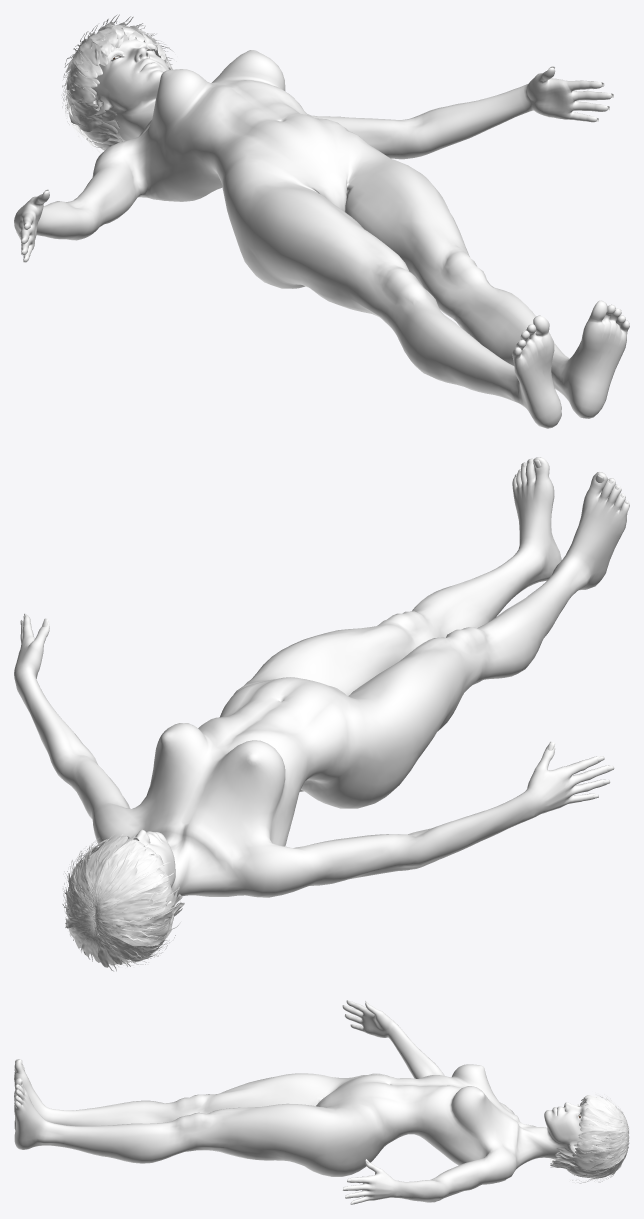
File: beauty.glb
3 renders of one model, top to bottom at view 1: azimuth 30°, elevation 25°; view 2: azimuth 150°, elevation 25°; view 3: azimuth 270°, elevation 25°, orthographic. The views are drawn at different scales.
Parts seen in each view (by area): view 1: Body, Hair; view 2: Body, Hair; view 3: Body, Hair.
Boxes of the visible parts, <box> form: Body: <box>14,34,629,428</box>; Hair: <box>61,14,178,153</box>; Body: <box>14,457,629,910</box>; Hair: <box>62,833,184,971</box>; Body: <box>14,1000,591,1204</box>; Hair: <box>550,1094,629,1183</box>.
Size of what is drawn, in the model's own units: 129 by 36.38 by 181.
18 materials, 4 textured.
